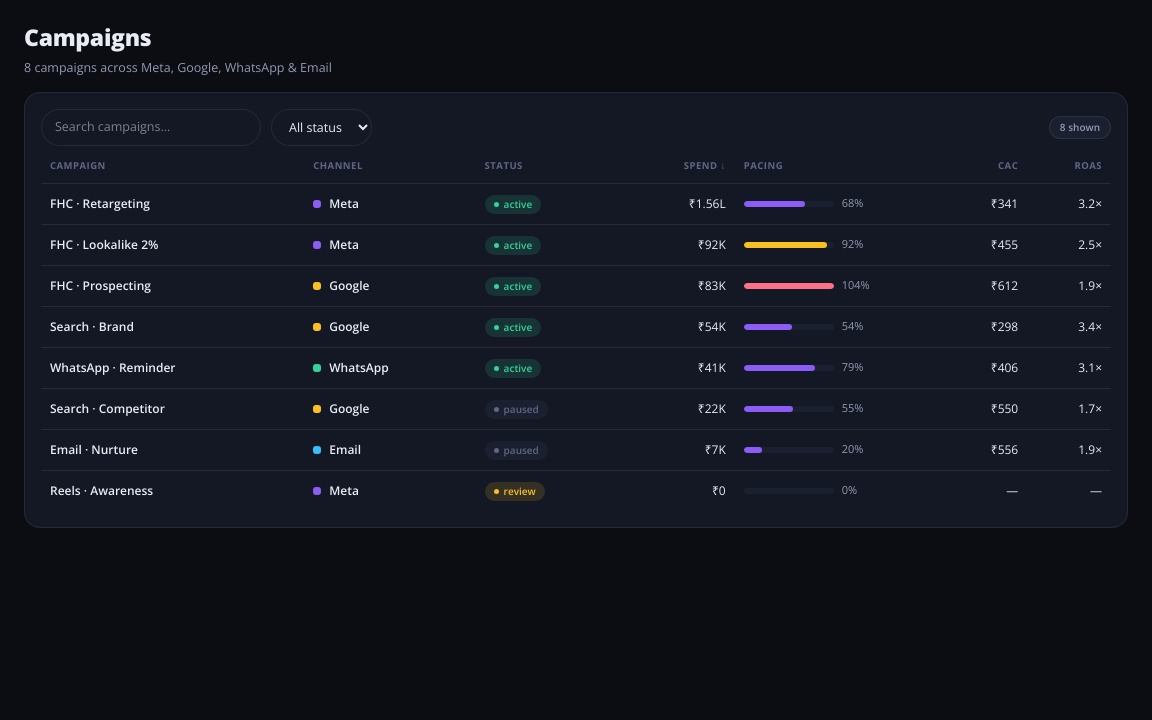
Scenario: CampaignsView › filters the list by search text
The image size is (1152, 720).
Expected: the text "FHC · Retargeting" is shown, [41,183,304,224]
Expected: the text "Search · Brand" is shown, [41,306,304,347]
In the field with placeholder "Search campaigns…": (151, 128) [41,109,261,146], type "Retargeting"
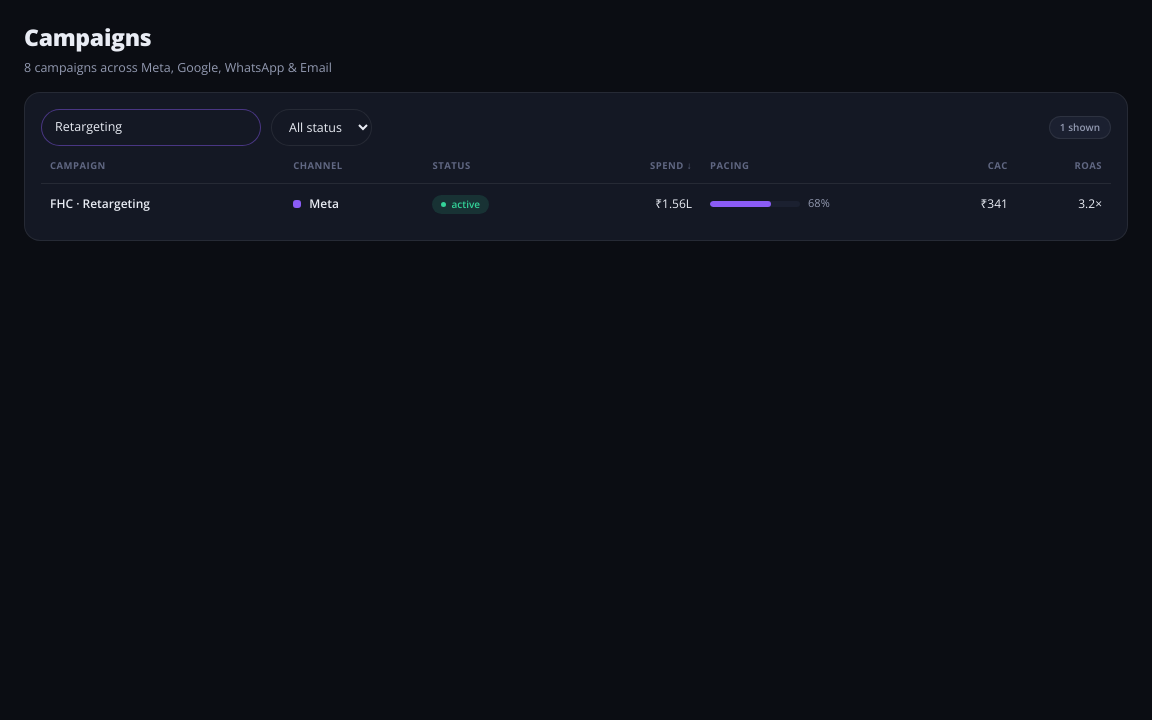
Expected: the text "FHC · Retargeting" is shown, [41,183,284,224]
Now the text "Search · Brand" is gone
